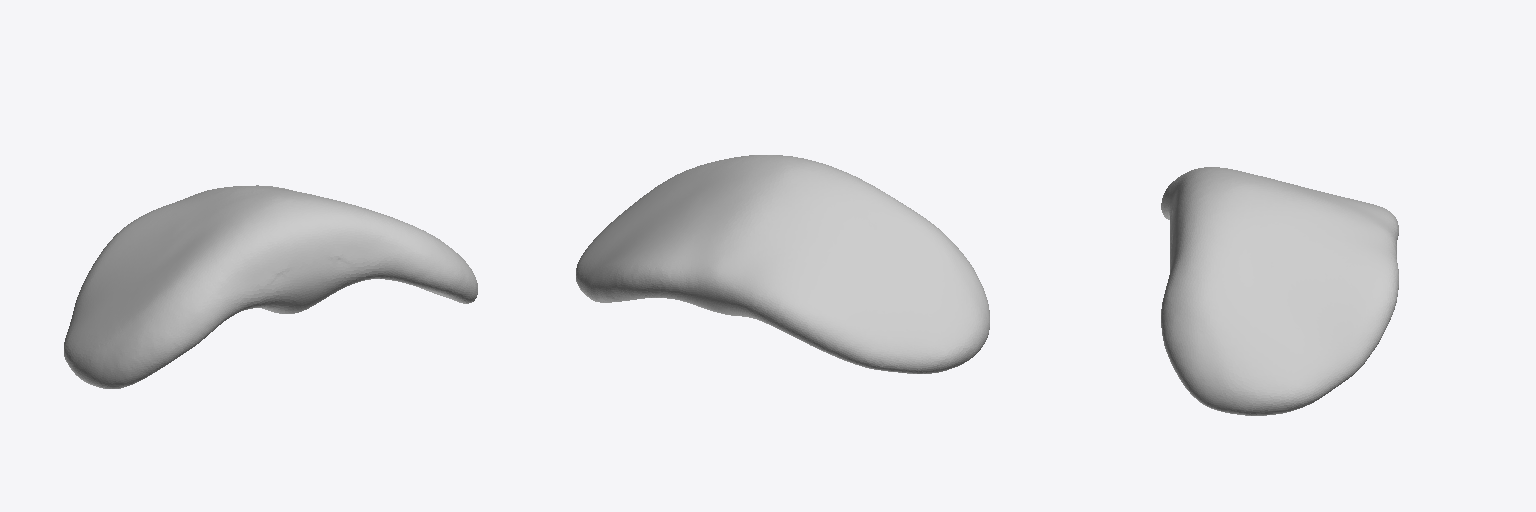
The model's file is shell4.obj.
3 renders of one model, left to right at view 1: azimuth 30°, elevation 25°; view 2: azimuth 150°, elevation 25°; view 3: azimuth 270°, elevation 25°, orthographic.
Parts seen in each view (by area): view 1: Group6084; view 2: Group6084; view 3: Group6084.
Part boxes in pixels (x1,y1,x2,y2): Group6084: (64, 185, 477, 388); Group6084: (576, 155, 989, 373); Group6084: (1161, 167, 1398, 415).
Bounding box in the file's own units: 0.4871 × 0.1729 × 0.2598.